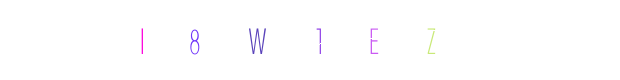1: (236, 0, 316, 80)
8: (211, 0, 291, 80)
E: (270, 0, 350, 80)
I: (102, 0, 182, 80)
W: (229, 0, 309, 80)
Z: (391, 0, 471, 80)
